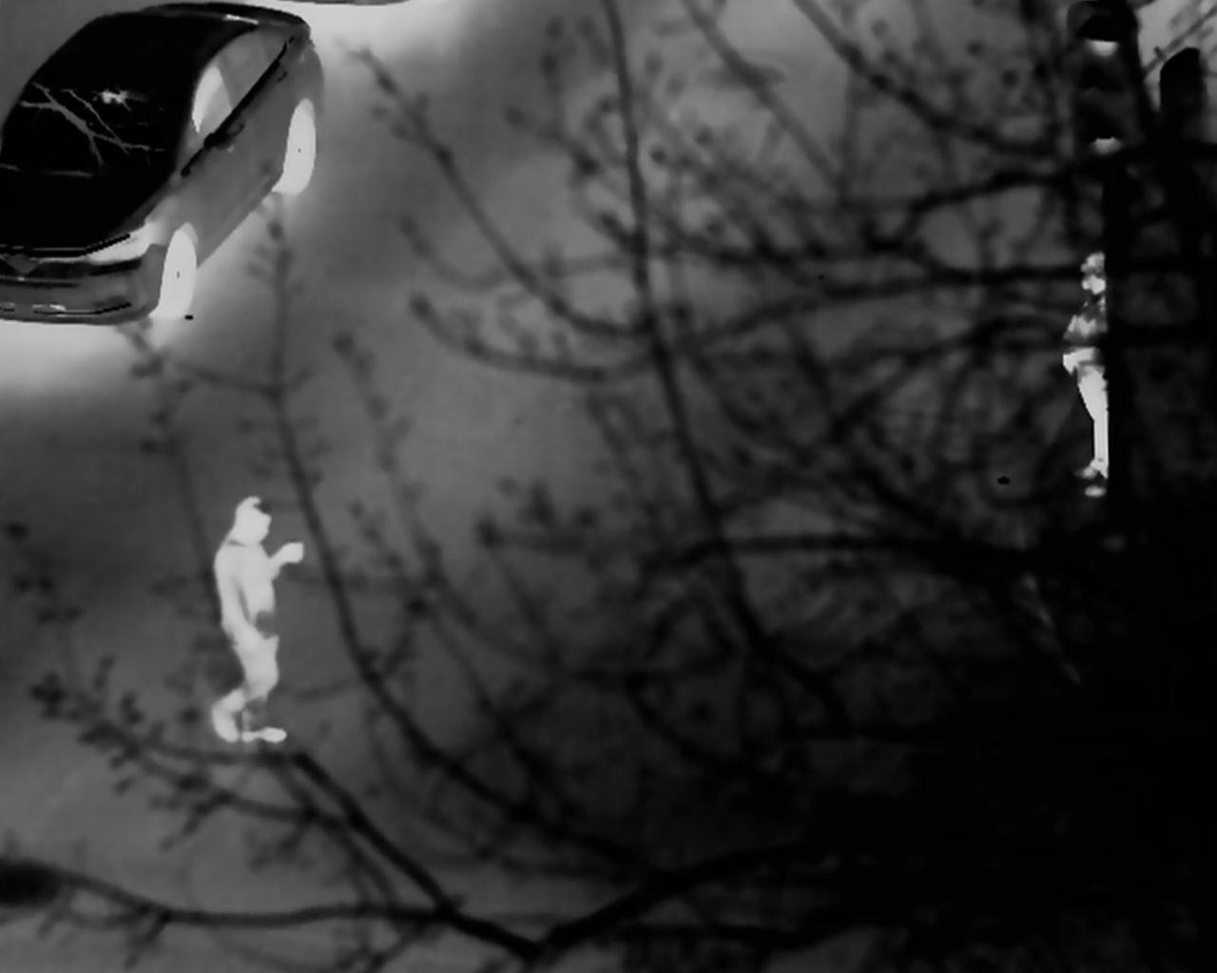person: (205, 493, 302, 752), (1053, 245, 1132, 505)
